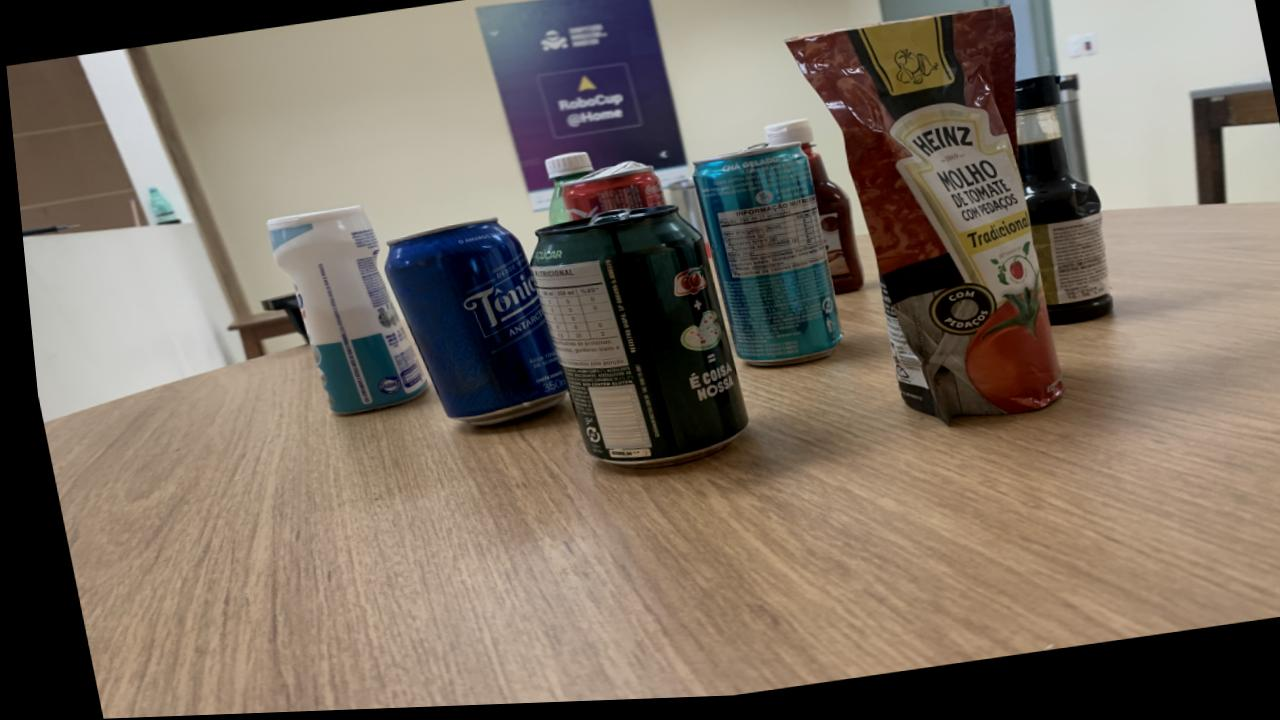Cleaner-Cleanup_Items: (262, 209, 420, 416)
Coke-Drinks: (557, 166, 661, 225)
English_Sauce-Pantry_Items: (1012, 82, 1106, 332)
Guarana-Drinks: (542, 155, 589, 228)
Guarana_Can-Drinks: (525, 209, 739, 472)
Ketchup-Pantry_Items: (761, 125, 858, 300)
Tea-Drinks: (689, 149, 834, 372)
Tomato_Sauce-Pantry_Items: (786, 14, 1056, 429)
Tonic-Drinks: (379, 221, 558, 428)
